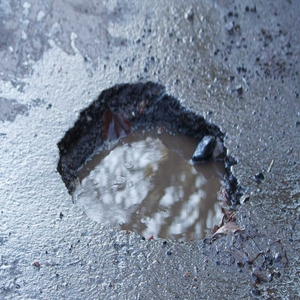pothole: (51, 78, 250, 254)
